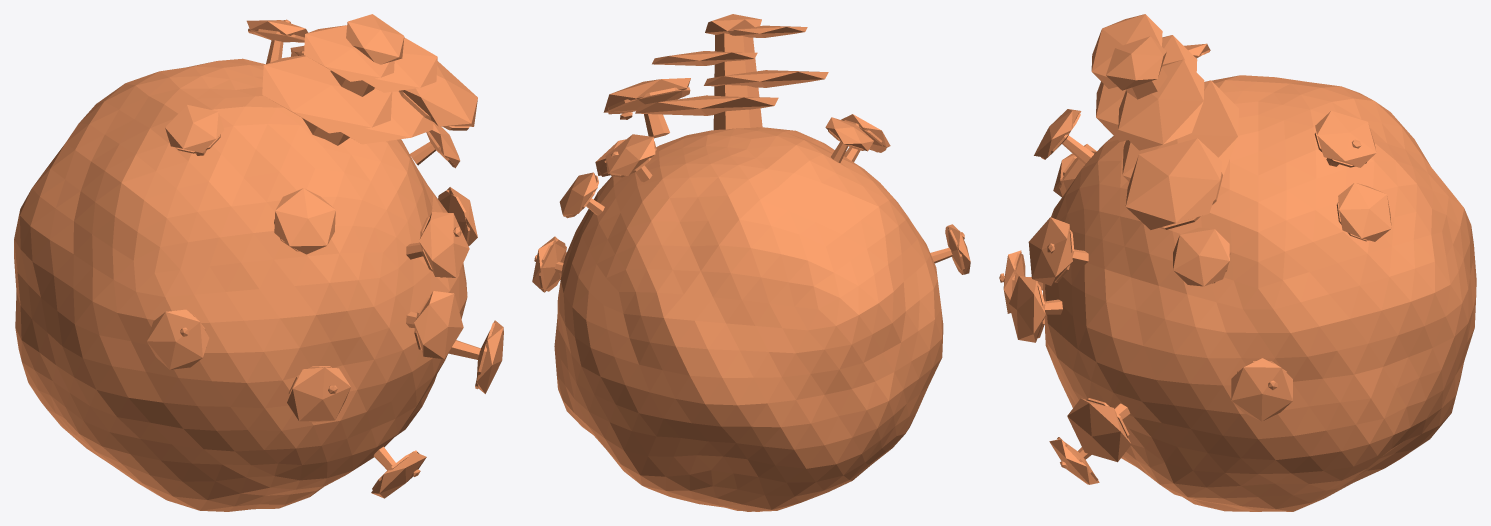
The model's file is Mushroom_05.fbx.
The picture shows the model from 3 angles, left to right: view 1: azimuth 30°, elevation 25°; view 2: azimuth 150°, elevation 25°; view 3: azimuth 270°, elevation 25°; orthographic projection. The views are drawn at different scales.
Visible parts, largest first — view 1: Mushroom_05; view 2: Mushroom_05; view 3: Mushroom_05.
Part boxes in pixels (left/top/right/bottom): Mushroom_05: left=14, top=14, right=503, bottom=511; Mushroom_05: left=532, top=14, right=970, bottom=511; Mushroom_05: left=999, top=14, right=1476, bottom=511.
Bounding box in the file's own units: 6.63 × 7.43 × 6.56.
